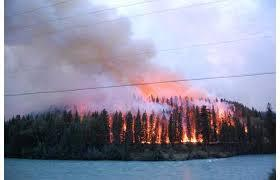fire: (107, 105, 249, 143)
smoke: (3, 0, 233, 125)
